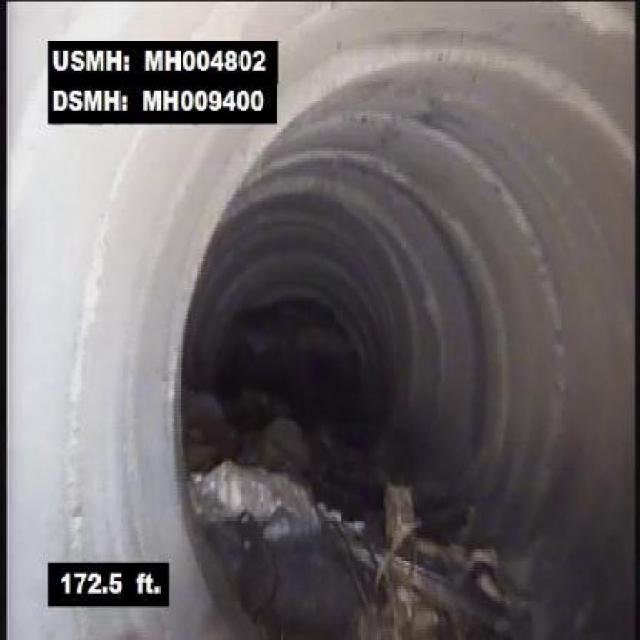Obstacle: (182, 454, 516, 638)
